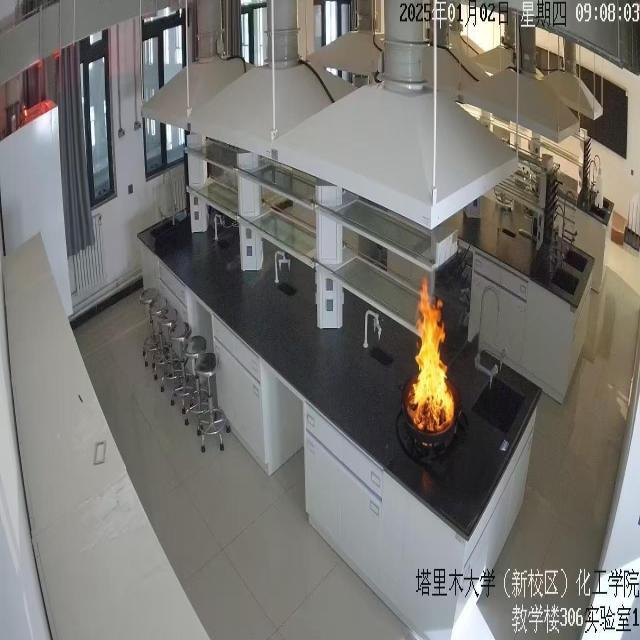smoke: (404, 277, 461, 438)
